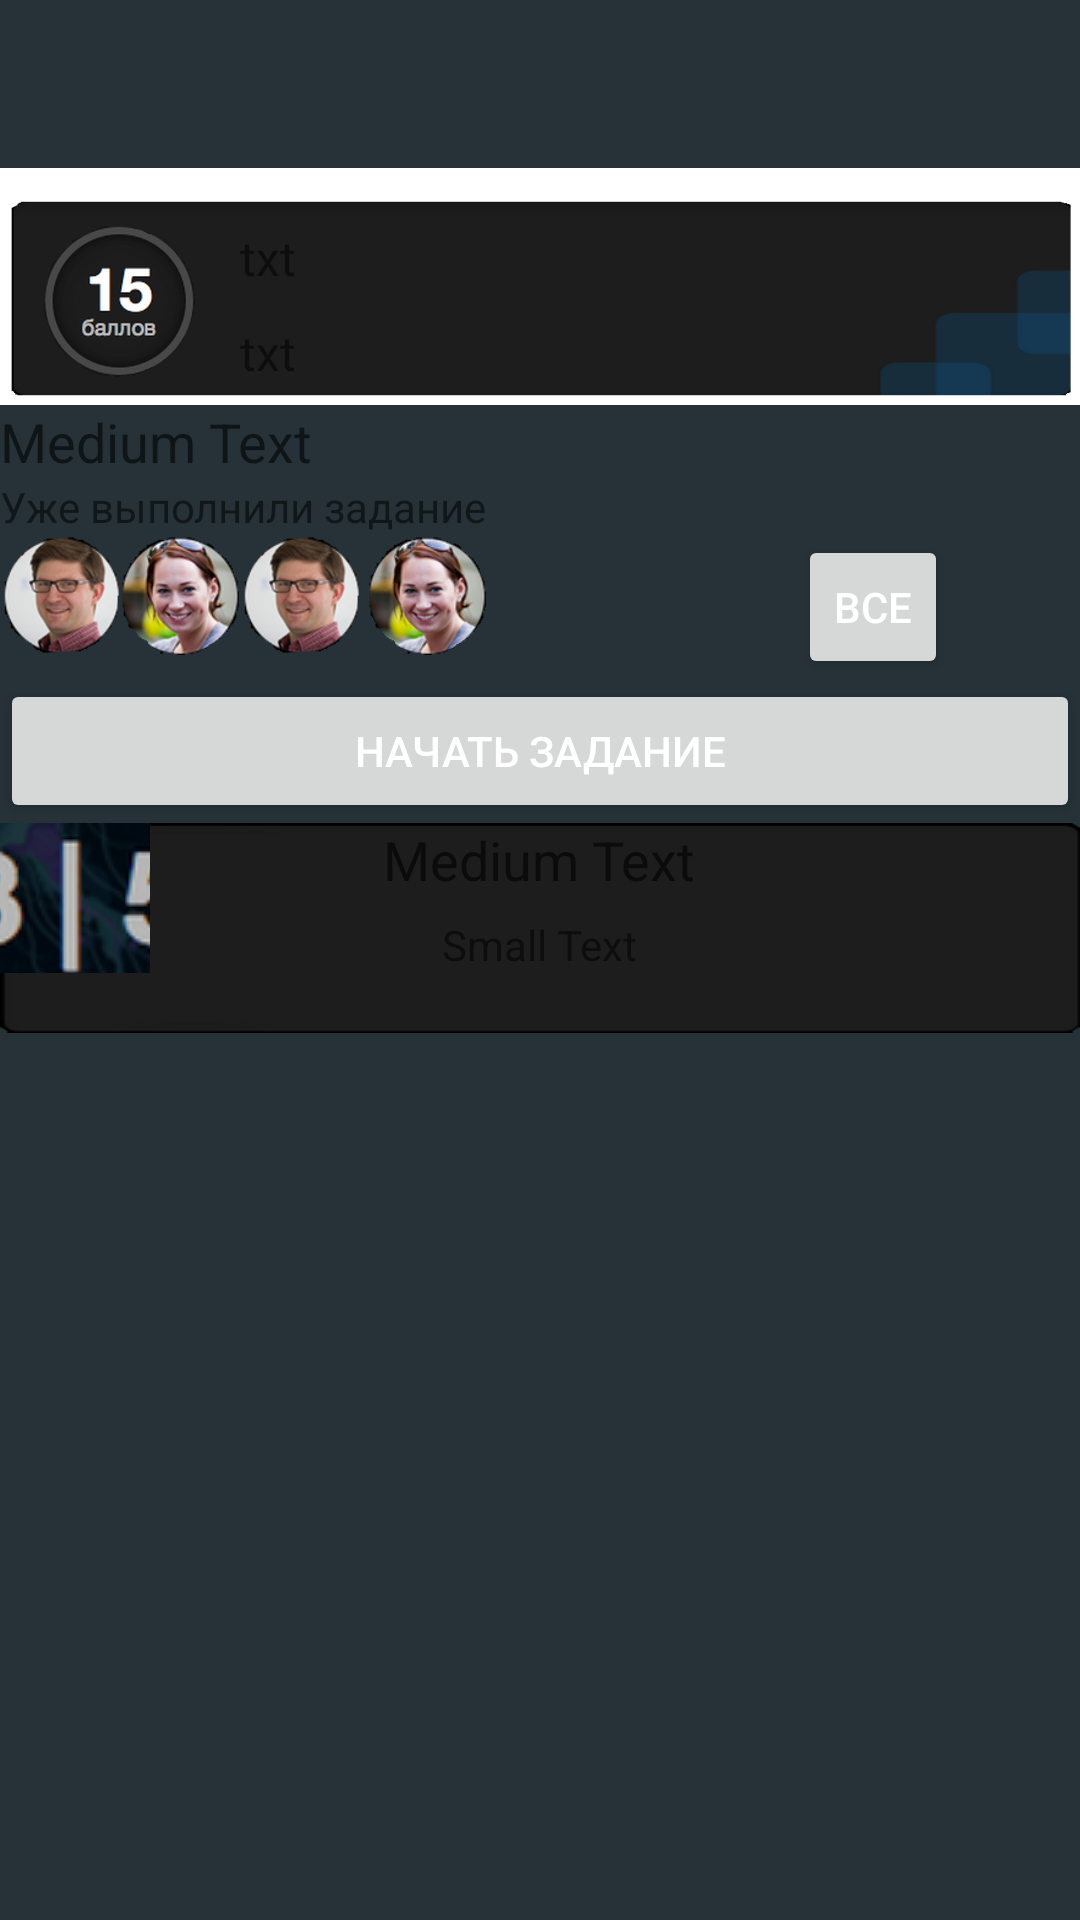

Icon click points for this 1080*1920 phone screenshot, format (x,y):
people: (61,595), (180,596), (301,595), (427,596)
